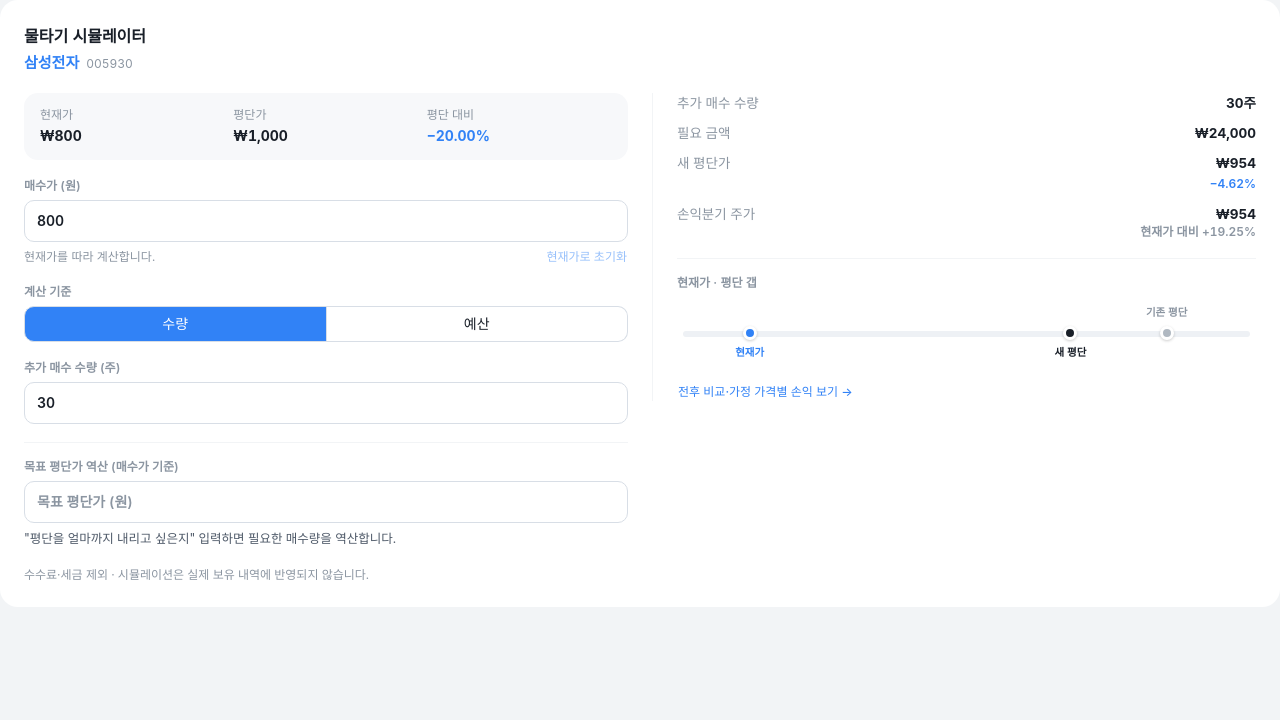
Scenario: AveragingPanel › 계산할 수 없는 입력은 원인별로 안내한다
Replace the text in the number field labelled "매수가 (원)" with "0" at (326, 220), box [24,200,628,242]
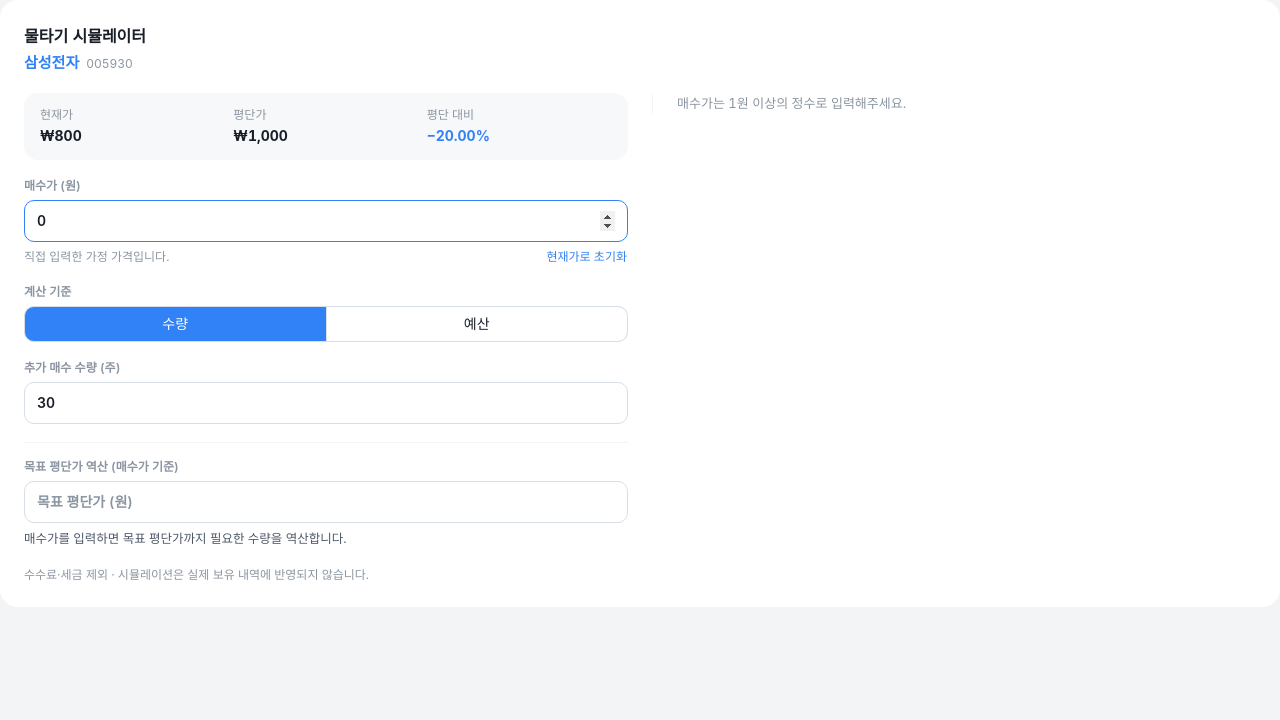
Result: the text "매수가는 1원 이상의 정수로 입력해주세요." is shown at [677,94,906,110]
Click the button "현재가로 초기화".
click(587, 256)  # box [546,248,628,266]
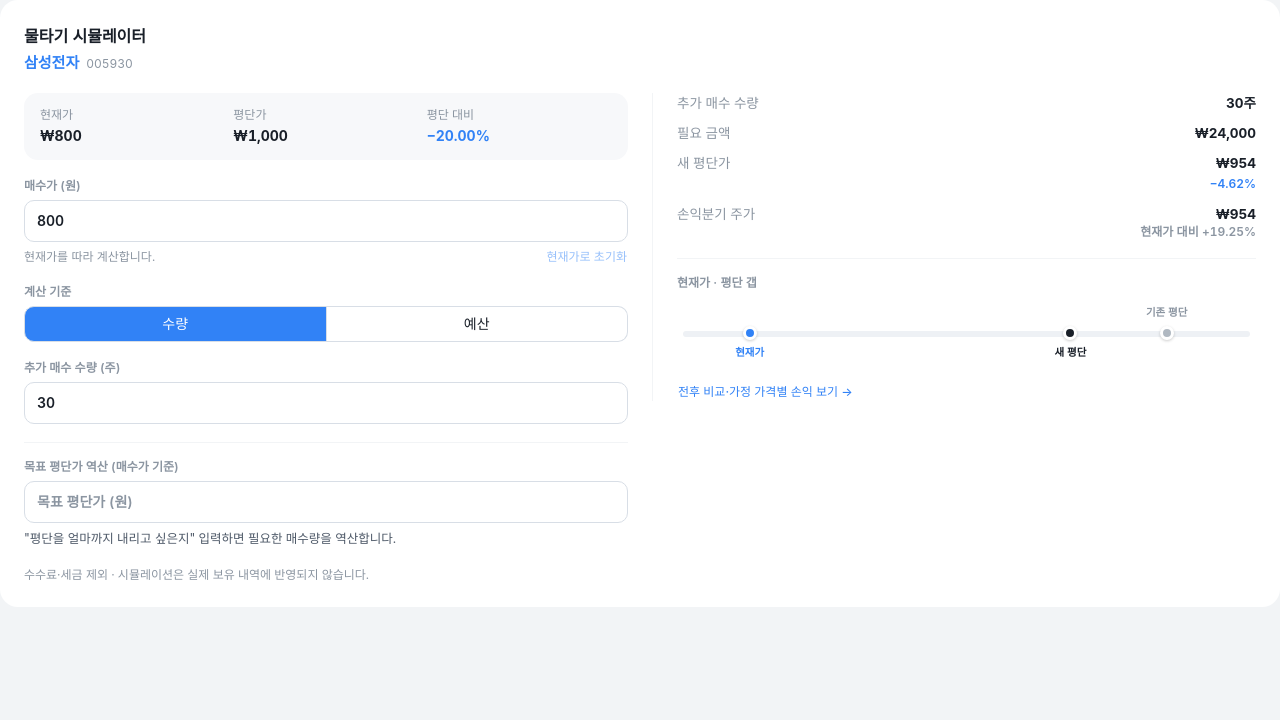
Replace the text in the number field labelled "추가 매수 수량 (주)" with "1.5" at (326, 402), box [24,382,628,424]
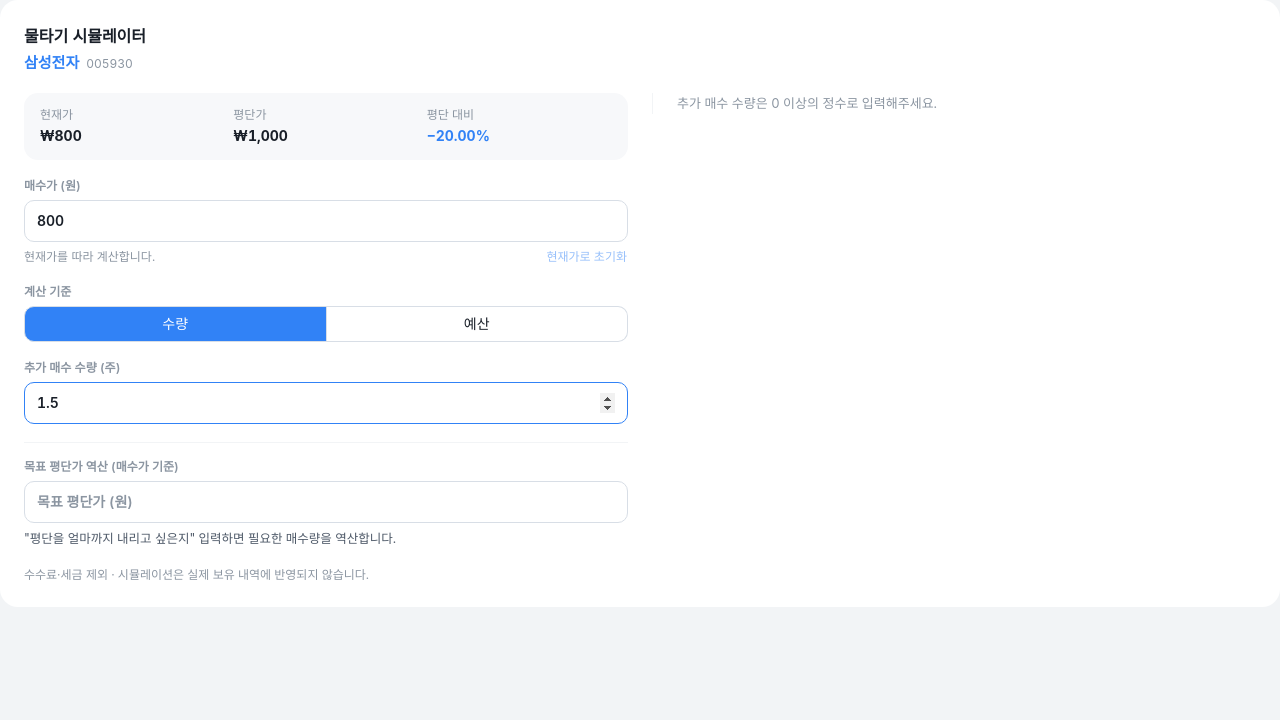
Result: the text "추가 매수 수량은 0 이상의 정수로 입력해주세요." is shown at [677,94,937,110]
